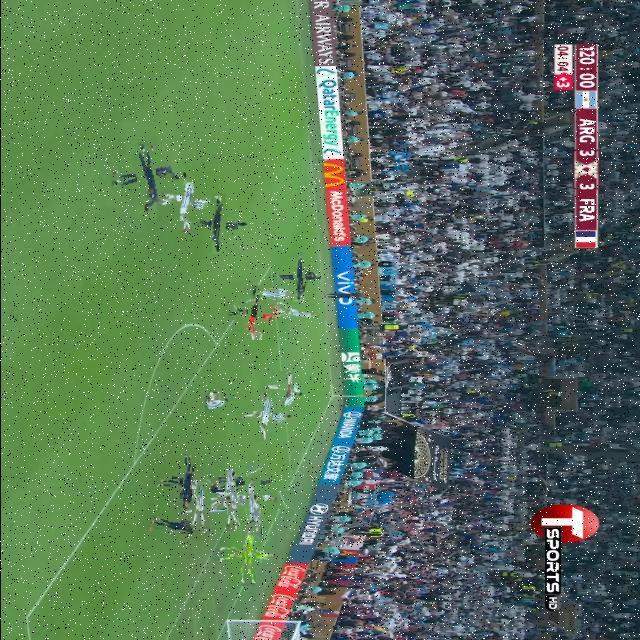goalkeeper: (228, 534, 269, 575)
player: (117, 150, 174, 207), (229, 476, 278, 525), (165, 180, 209, 224), (149, 513, 213, 540), (181, 489, 223, 530), (198, 203, 239, 244), (169, 463, 207, 501), (266, 299, 325, 323), (213, 482, 250, 519), (282, 262, 315, 294), (250, 401, 283, 433), (218, 476, 276, 491), (271, 376, 299, 406), (240, 286, 292, 302), (200, 387, 235, 410)
referee: (235, 293, 274, 332)
